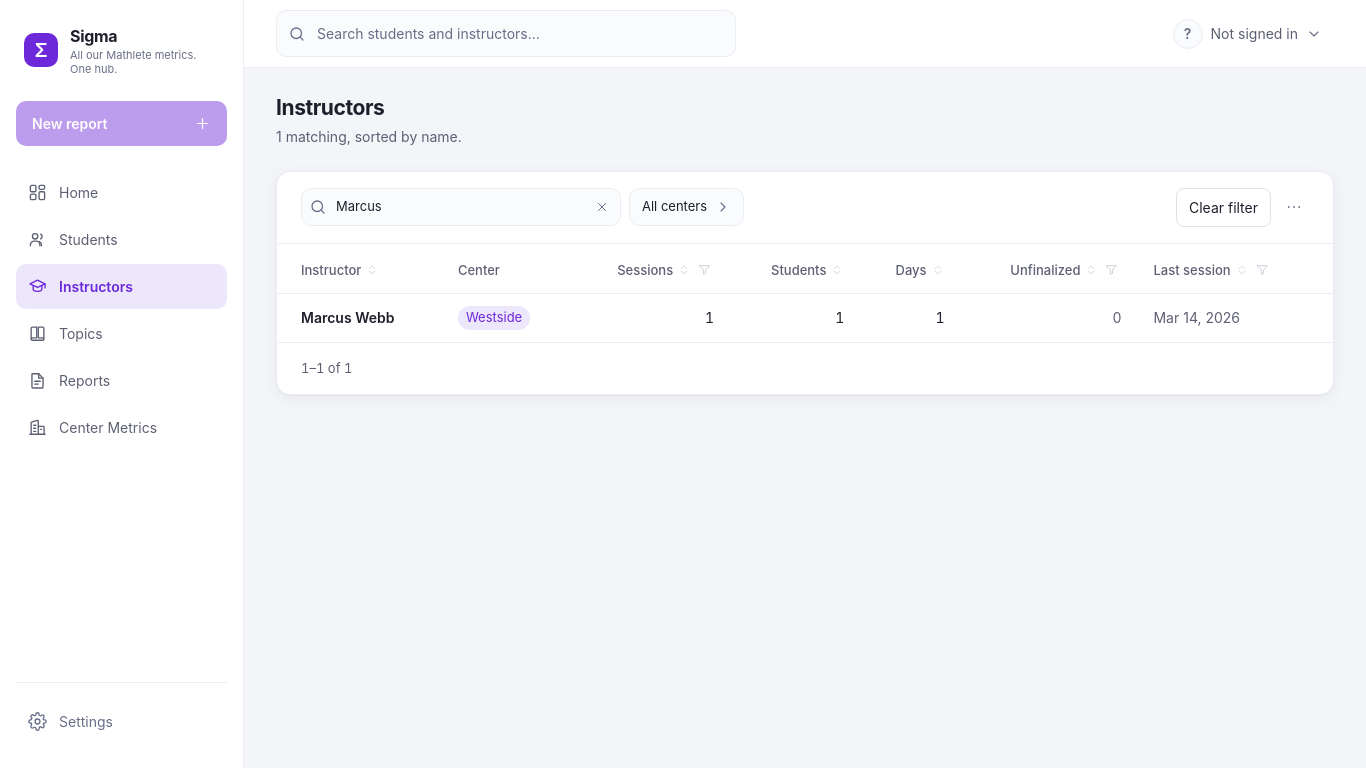
Test: instructors page › clears the filter and the offset together
Expected: the row "Marcus Webb Westside 1 1 1 0 Mar 14, 2026" is shown, [277,294,1333,342]
What coordinates should you click on to do the following:
click the button "Clear filter"
I would click on:
 (1224, 207)
Its box is [1176,188,1271,226].
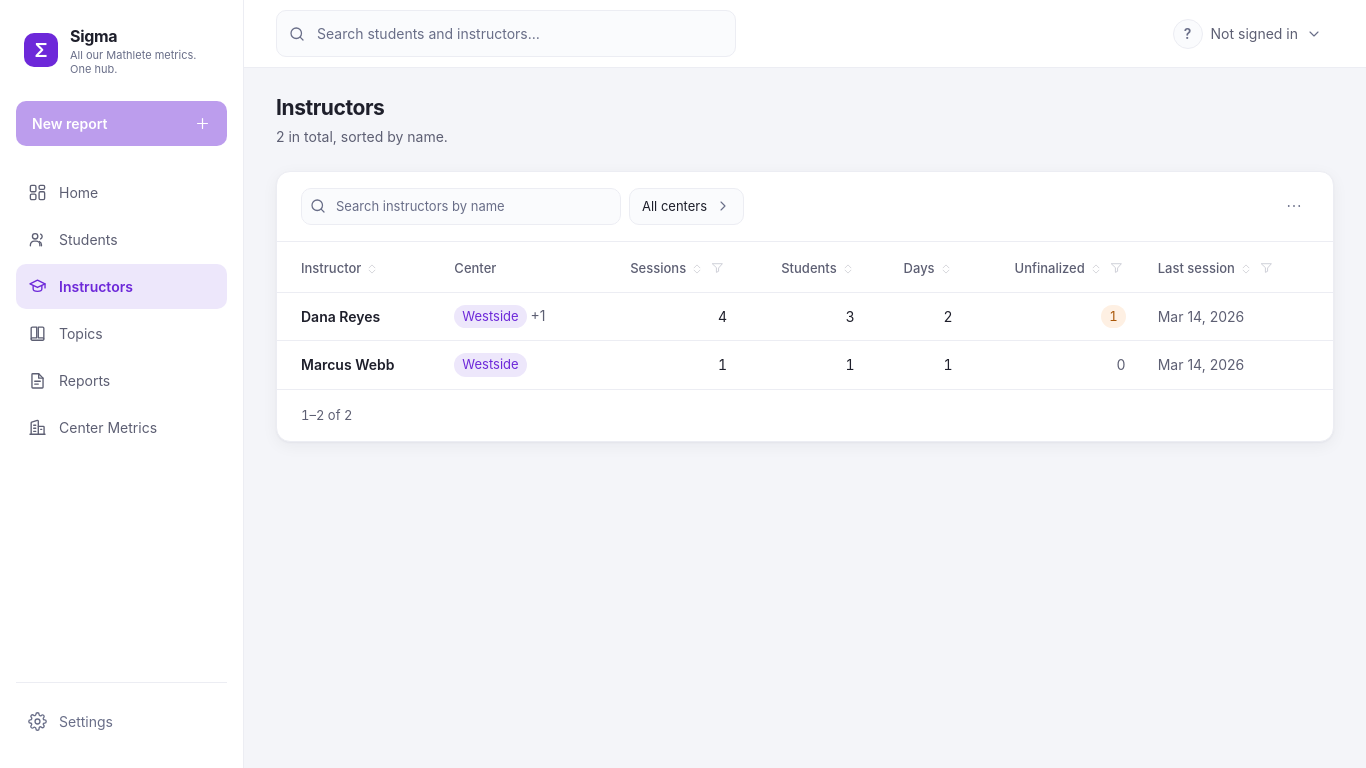
Now the row "Dana Reyes Westside +1 4 3 2 1 Mar 14, 2026" is shown, box [277,292,1333,340]
